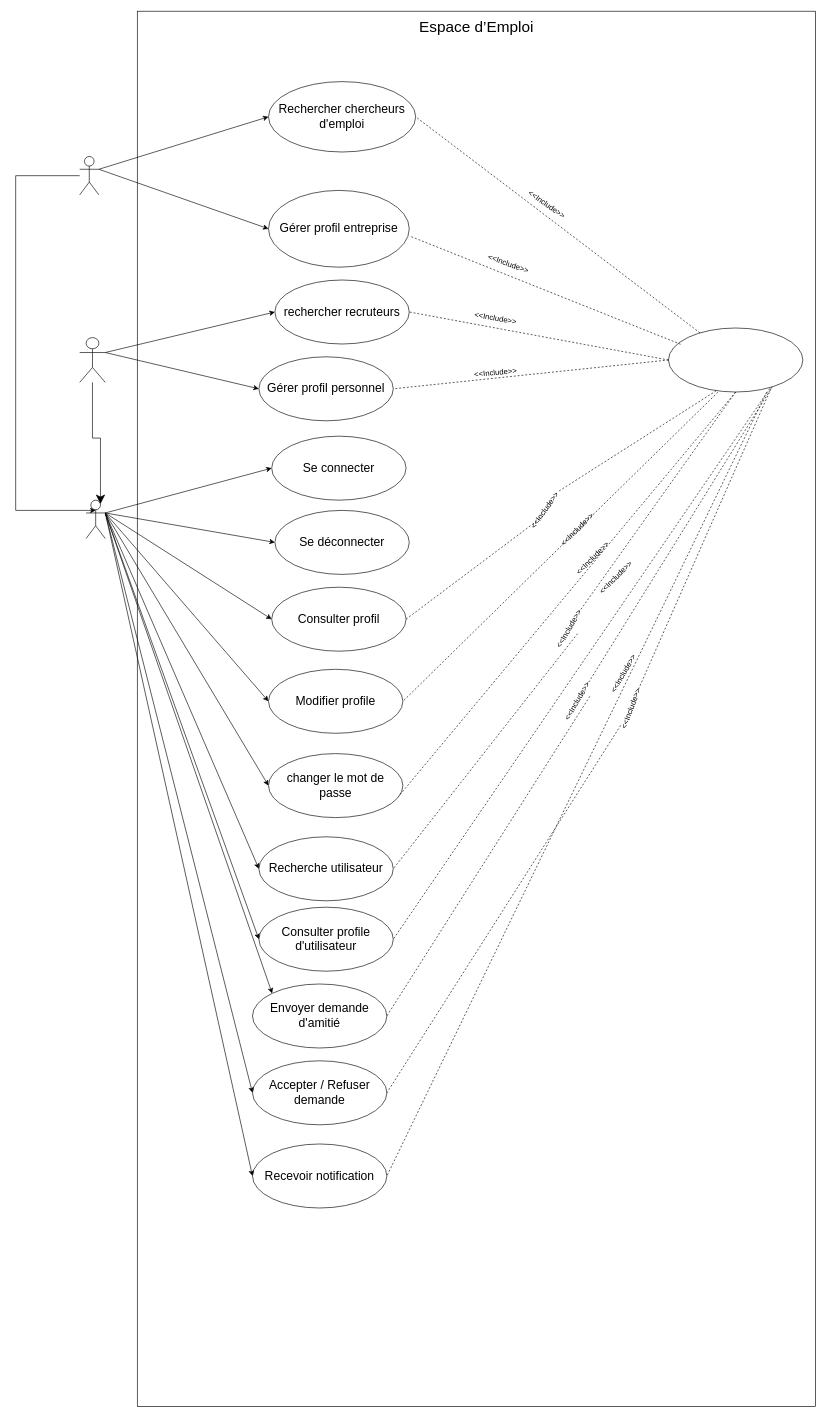
Some shapes in this 827 by 1418 pixel diagram are drawn without their labels. Here are the shapes that lost their labels. From the top down, the centre of each, then its label:
(89,175): Recruteur
(92,359): chercheur d'emploi
(735,359): Authentification
(95,519): utilisateur
